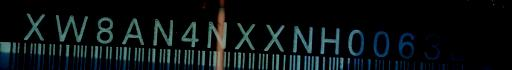letter: (52, 11, 92, 42), (317, 23, 343, 56), (120, 15, 146, 47), (233, 20, 259, 52), (261, 22, 287, 54), (150, 14, 174, 48), (472, 32, 496, 65), (22, 9, 46, 41), (178, 18, 202, 49), (290, 22, 314, 53), (446, 31, 468, 64), (94, 14, 116, 46), (204, 19, 228, 47), (370, 28, 392, 58), (394, 30, 416, 60), (346, 26, 366, 57), (422, 29, 442, 60)
